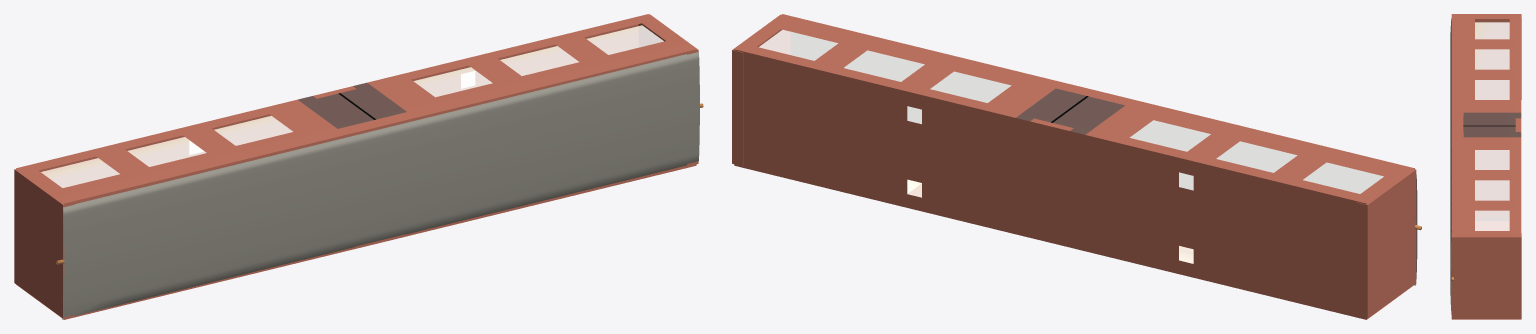
File: asset19.glb
3 renders of one model, left to right at view 1: azimuth 30°, elevation 25°; view 2: azimuth 150°, elevation 25°; view 3: azimuth 270°, elevation 25°, orthographic. The views are drawn at different scales.
Parts seen in each view (by area): view 1: Cylinder2, Cube1_copy12, Cube1_copy23, Cube16, Cube19_copy18, Cube1_copy27, Cube19_copy25; view 2: Cube1_copy23, Cube1_copy12, Cube16, Cylinder2, Cube19_copy18, Cube1_copy27, Cube19_copy25; view 3: Cube19_copy25, Cube1_copy23, Cube1_copy12, Cube16, Cube1_copy27, Cube19_copy18, Cylinder2.
Part boxes in pixels (x1=…): Cylinder2: x1=61, y1=52, x2=699, y2=319; Cube1_copy12: x1=16, y1=96, x2=356, y2=319; Cube1_copy23: x1=353, y1=14, x2=696, y2=236; Cube16: x1=41, y1=25, x2=663, y2=187; Cube19_copy18: x1=14, y1=169, x2=74, y2=318; Cube1_copy27: x1=307, y1=86, x2=405, y2=248; Cube19_copy25: x1=638, y1=14, x2=698, y2=166; Cube1_copy23: x1=734, y1=14, x2=1077, y2=237; Cube1_copy12: x1=1071, y1=97, x2=1414, y2=319; Cube16: x1=759, y1=29, x2=1383, y2=263; Cylinder2: x1=791, y1=32, x2=1417, y2=285; Cube19_copy18: x1=1356, y1=169, x2=1416, y2=318; Cube1_copy27: x1=1030, y1=86, x2=1123, y2=247; Cube19_copy25: x1=732, y1=14, x2=790, y2=166; Cube19_copy25: x1=1451, y1=233, x2=1521, y2=319; Cube1_copy23: x1=1452, y1=132, x2=1521, y2=319; Cube1_copy12: x1=1452, y1=14, x2=1521, y2=117; Cube16: x1=1475, y1=22, x2=1509, y2=230; Cube1_copy27: x1=1452, y1=116, x2=1521, y2=216; Cube19_copy18: x1=1451, y1=14, x2=1521, y2=99; Cylinder2: x1=1450, y1=18, x2=1452, y2=319.
Size of what is drawn, in the model's own units: 1 by 0.1727 by 0.1336.
